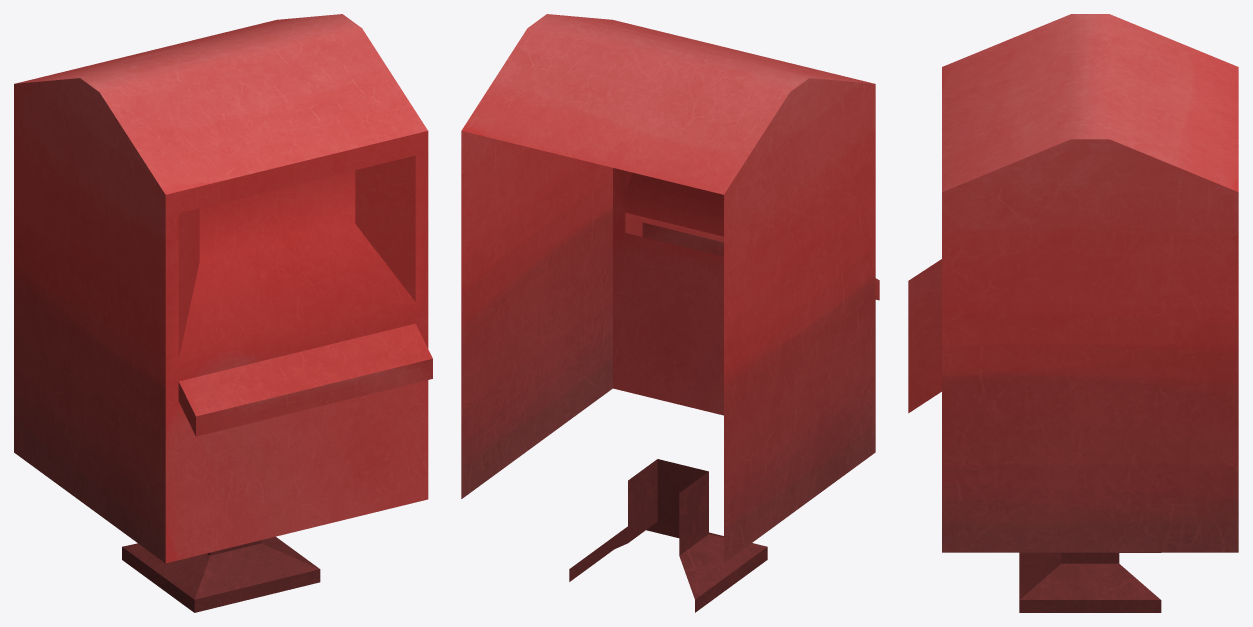
The model's file is 봄_우체통.FBX.
3 renders of one model, left to right at view 1: azimuth 30°, elevation 25°; view 2: azimuth 150°, elevation 25°; view 3: azimuth 270°, elevation 25°, orthographic. The views are drawn at different scales.
Visible parts, largest first — view 1: Box001; view 2: Box001; view 3: Box001.
Boxes of the visible parts, x1,y1,x2,y2 form: Box001: (14, 14, 432, 612); Box001: (461, 14, 879, 612); Box001: (908, 14, 1238, 612).
Bounding box in the file's own units: 27.05 × 50.98 × 30.12.
1 material, 1 textured.
